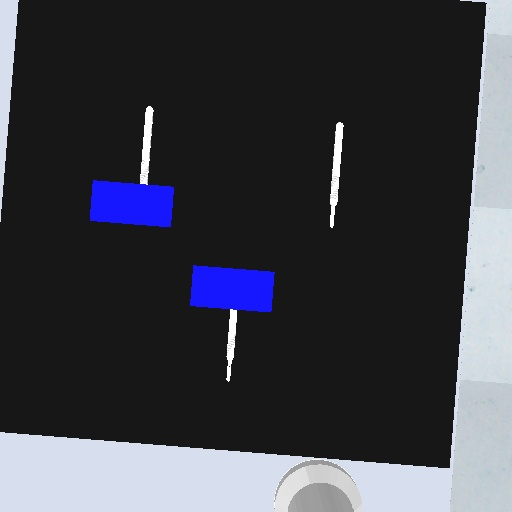bisturi: (326, 118, 346, 230), (136, 103, 157, 186), (224, 308, 241, 383)
